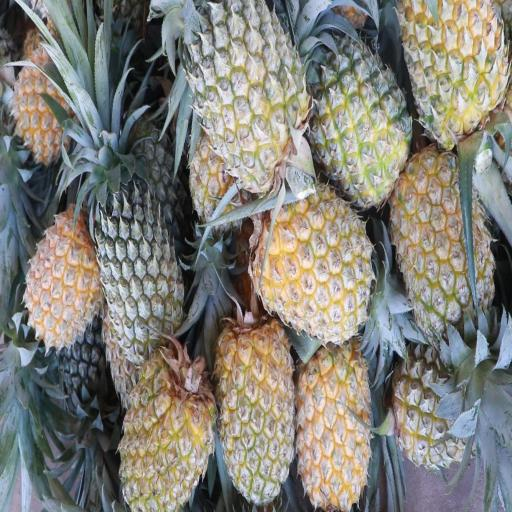------------------------------: (187, 0, 303, 173), (311, 35, 408, 199), (390, 345, 475, 465)
Pineapple - v8 v1: (392, 148, 492, 328), (258, 184, 369, 340), (120, 357, 211, 508), (218, 324, 293, 500), (409, 0, 506, 129), (298, 345, 372, 511), (24, 210, 97, 345), (12, 40, 85, 160)
